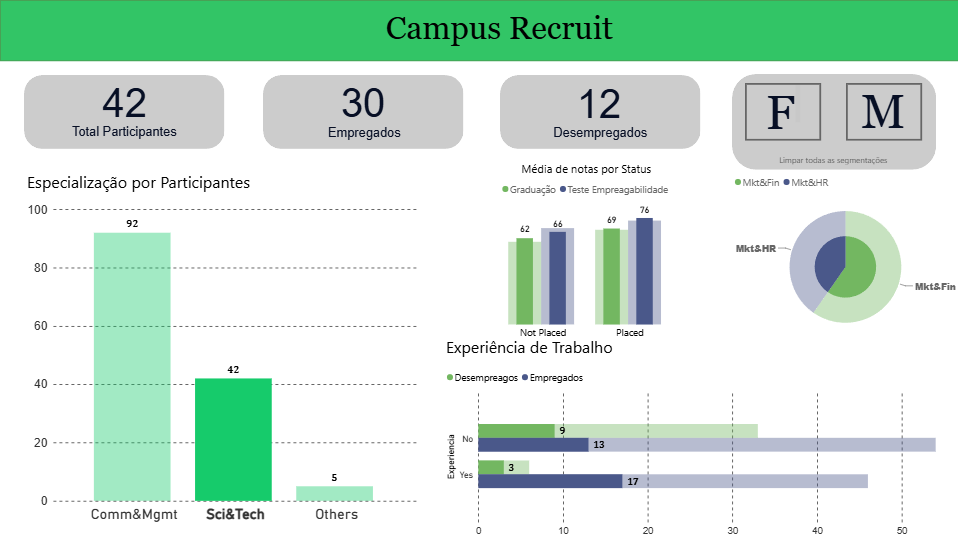

The page's visual inventory and layout, read from the dashboard file:
{"tool":"powerbi","page":{"name":"Página 1","canvas":[1600,900],"ordinal":0},"visuals":[{"type":"shape","box":[0,0,1600,101.9],"z":0},{"type":"textbox","box":[615,11.7,434.6,78.8],"z":1000},{"type":"shape","box":[40.4,125,334.4,123.4],"z":2000},{"type":"shape","box":[832.7,125,334.4,123.4],"z":3000},{"type":"shape","box":[438.5,125,334.4,123.4],"z":4000},{"type":"card","fields":{"Values":["CampusRecrut.Total_Participantes"]},"box":[100,125,215.6,81.2],"z":5000},{"type":"textbox","box":[40.4,203.8,334.4,42.2],"z":6000},{"type":"card","fields":{"Values":["CampusRecrut.empregados"]},"box":[507.7,125,193.8,81.2],"z":7000},{"type":"textbox","box":[440.4,205.8,334.4,42.2],"z":8000},{"type":"card","fields":{"Values":["CampusRecrut.desempreagos"]},"box":[888.5,128.8,220.3,78.1],"z":9000},{"type":"textbox","box":[832.7,205.8,334.4,39.1],"z":10000},{"type":"clusteredColumnChart","title":"Especialização por Participantes","fields":{"Category":["CampusRecrut.tipo_graduação"],"Y":["CampusRecrut.Total_Participantes"]},"box":[40.7,285.2,661.1,590.7],"z":11000},{"type":"shape","box":[1219.2,123.1,340.4,159.6],"z":12000},{"type":"textbox","box":[1271.2,136.5,67.3,84.6],"z":13000},{"type":"actionButton","box":[1242.3,138.5,126.9,96.2],"z":14000},{"type":"textbox","box":[1430.8,134.6,111.5,101.9],"z":15000},{"type":"actionButton","box":[1409.6,138.5,126.9,96.2],"z":16000},{"type":"actionButton","box":[1278.8,244.2,221.2,40.4],"z":17000},{"type":"pieChart","title":"Pós_graduação_MBA","fields":{"Category":["CampusRecrut.pós_graduação_MBA"],"Y":["CountNonNull(CampusRecrut.pós_graduação_MBA)"]},"box":[1218.5,281.5,381.5,294.4],"z":18000},{"type":"clusteredBarChart","title":"Experiência de Trabalho","fields":{"Category":["CampusRecrut.expe_trabalho"],"Y":["CampusRecrut.desempreagos","CampusRecrut.empregados"]},"box":[738.9,559.3,861.1,340.7],"z":19000},{"type":"lineClusteredColumnComboChart","title":"Média de notas por Status","fields":{"Category":["CampusRecrut.status"],"Y":["Avg(CampusRecrut.media_nota_sup)","Avg(CampusRecrut.test_procent_emprego)"]},"box":[711.1,268.5,531.5,307.4],"z":20000}]}

Visuals, with their boxes in screenshot pixels (x1, y1, x2, y2), scaled from the page's 1600x900 canvas onto the 958x539 screenshot:
shape: select_region(0, 0, 957, 61)
textbox: select_region(368, 7, 628, 54)
shape: select_region(24, 75, 224, 149)
shape: select_region(499, 75, 699, 149)
shape: select_region(263, 75, 463, 149)
card - CampusRecrut.Total_Participantes: select_region(60, 75, 189, 123)
textbox: select_region(24, 122, 224, 147)
card - CampusRecrut.empregados: select_region(304, 75, 420, 123)
textbox: select_region(264, 123, 464, 149)
card - CampusRecrut.desempreagos: select_region(532, 77, 664, 124)
textbox: select_region(499, 123, 699, 147)
"Especialização por Participantes" clusteredColumnChart: select_region(24, 171, 420, 525)
shape: select_region(730, 74, 934, 169)
textbox: select_region(761, 82, 801, 132)
actionButton: select_region(744, 83, 820, 141)
textbox: select_region(857, 81, 923, 142)
actionButton: select_region(844, 83, 920, 141)
actionButton: select_region(766, 146, 898, 170)
"Pós_graduação_MBA" pieChart: select_region(730, 169, 957, 345)
"Experiência de Trabalho" clusteredBarChart: select_region(442, 335, 957, 538)
"Média de notas por Status" lineClusteredColumnComboChart: select_region(426, 161, 744, 345)
